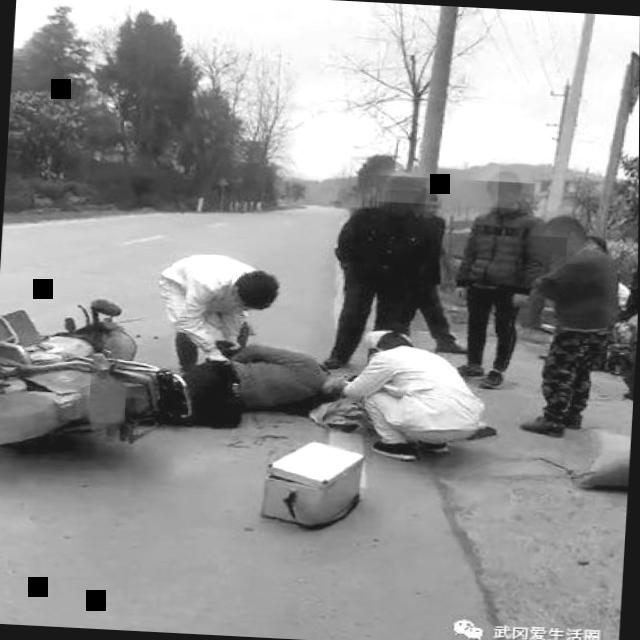Fall-Detected: (133, 318, 359, 444)
